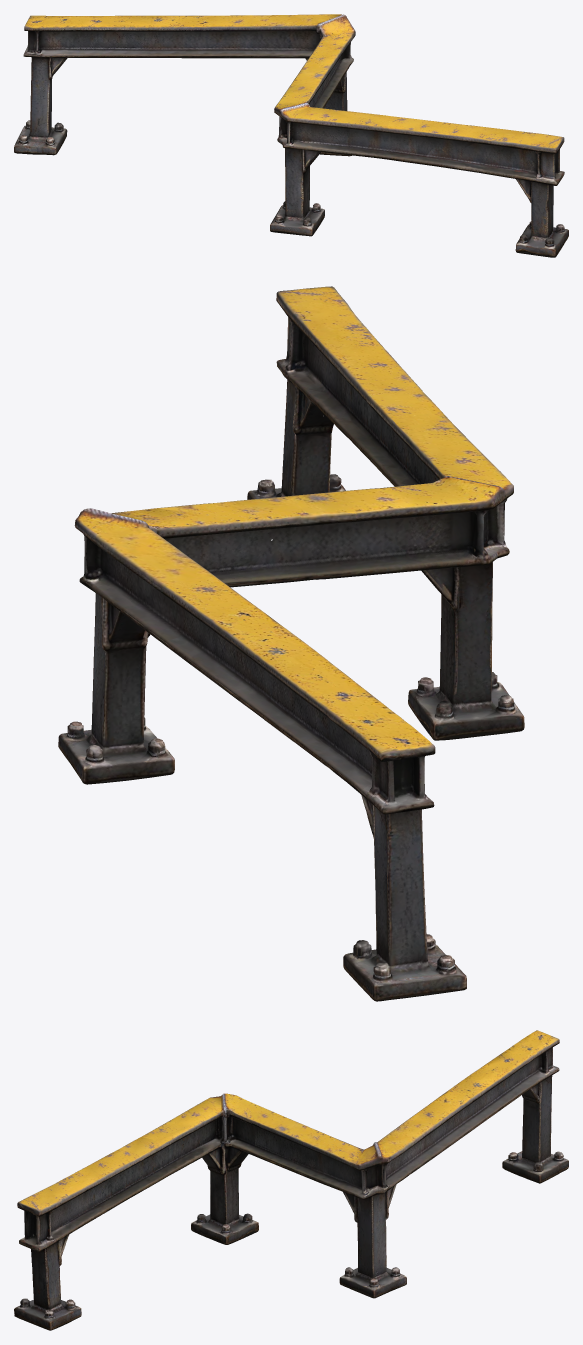
The model's file is walkway.glb.
The picture shows the model from 3 angles, top to bottom: view 1: azimuth 30°, elevation 25°; view 2: azimuth 150°, elevation 25°; view 3: azimuth 270°, elevation 25°; orthographic projection. The views are drawn at different scales.
Visible parts, largest first — view 1: tripo_node_f7f33987-0e0a-4891-bff2-0cb1aef3824a; view 2: tripo_node_f7f33987-0e0a-4891-bff2-0cb1aef3824a; view 3: tripo_node_f7f33987-0e0a-4891-bff2-0cb1aef3824a.
Part boxes in pixels (left/top/right/bottom): tripo_node_f7f33987-0e0a-4891-bff2-0cb1aef3824a: left=14, top=14, right=568, bottom=257; tripo_node_f7f33987-0e0a-4891-bff2-0cb1aef3824a: left=58, top=286, right=524, bottom=1001; tripo_node_f7f33987-0e0a-4891-bff2-0cb1aef3824a: left=14, top=1030, right=568, bottom=1330.
Size of the model in its own units: 0.7316 by 0.2734 by 0.9809.
Materials: 1 (1 with a texture image).
